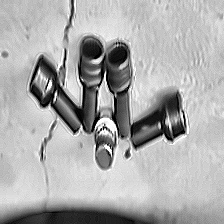cracked: (37, 115, 60, 207), (57, 1, 77, 90)
